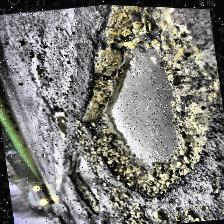pothole: (62, 2, 220, 210), (64, 150, 102, 222)
